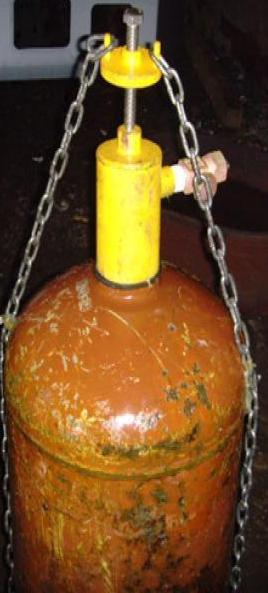cylinder: (1, 1, 268, 593)
